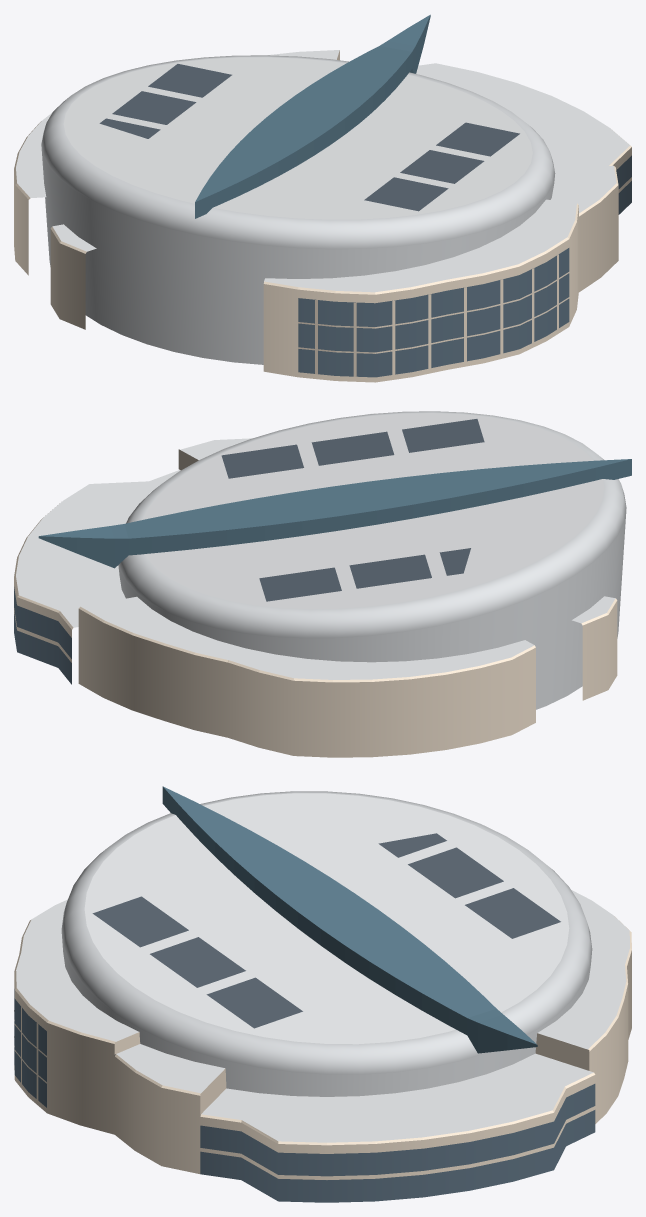
3 renders of one model, top to bottom at view 1: azimuth 30°, elevation 25°; view 2: azimuth 150°, elevation 25°; view 3: azimuth 270°, elevation 25°, orthographic. The views are drawn at different scales.
Visible parts, largest first — view 1: crypto-com-arena; view 2: crypto-com-arena; view 3: crypto-com-arena.
Part boxes in pixels (x1,y1,x2,y2): crypto-com-arena: [14, 14, 631, 382]; crypto-com-arena: [14, 411, 631, 757]; crypto-com-arena: [14, 786, 631, 1202].
Bounding box in the file's own units: 171 × 47.86 × 161.
